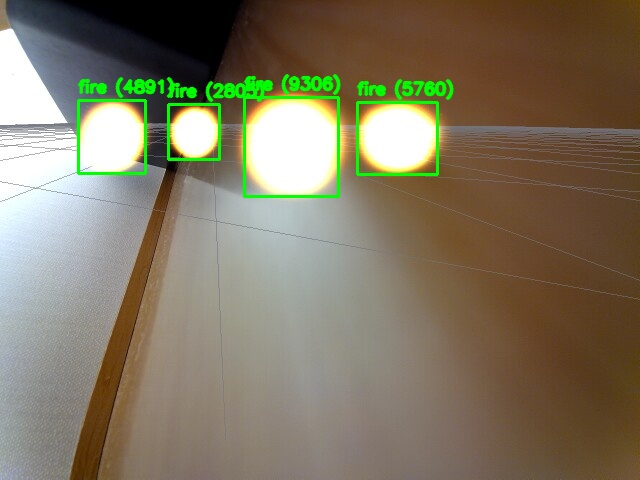fire: (244, 97, 338, 196), (357, 102, 437, 174), (78, 100, 145, 173), (168, 104, 219, 159)
